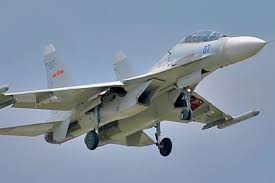maybay_muctieu: (2, 24, 262, 153)
